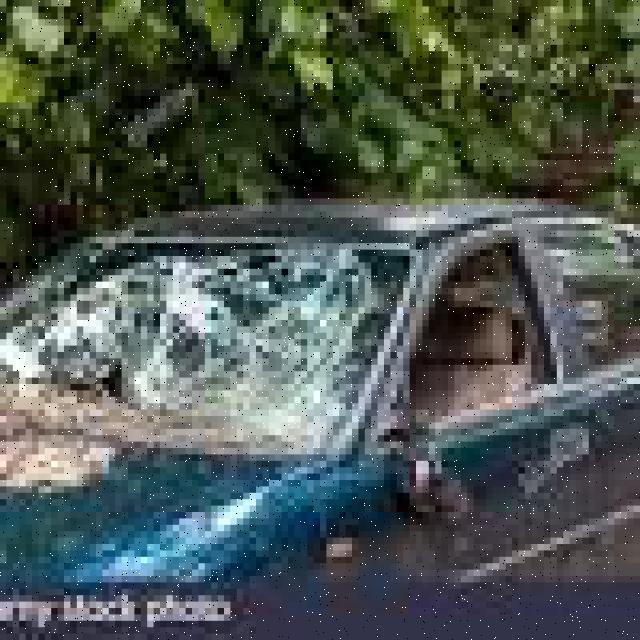Front-Windscreen-Damage: (0, 211, 448, 474)
